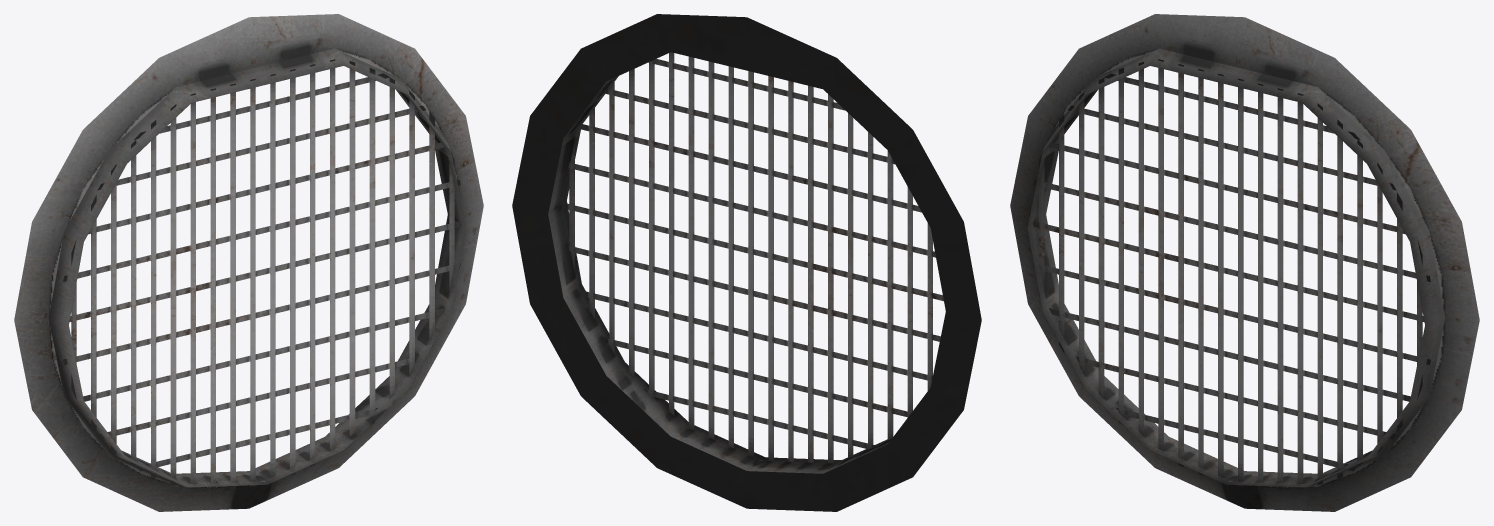
The model's file is p_rus_vent_ext_round_LOD2.obj.
3 renders of one model, left to right at view 1: azimuth 30°, elevation 25°; view 2: azimuth 150°, elevation 25°; view 3: azimuth 330°, elevation 25°, orthographic.
Parts seen in each view (by area): view 1: mtl_p_rus_vent_ext_round; view 2: mtl_p_rus_vent_ext_round; view 3: mtl_p_rus_vent_ext_round.
Part boxes in pixels (x1=…): mtl_p_rus_vent_ext_round: x1=14, y1=14, x2=483, y2=511; mtl_p_rus_vent_ext_round: x1=512, y1=14, x2=981, y2=511; mtl_p_rus_vent_ext_round: x1=1010, y1=14, x2=1479, y2=511.
Bounding box in the file's own units: 162 × 162 × 11.18.
